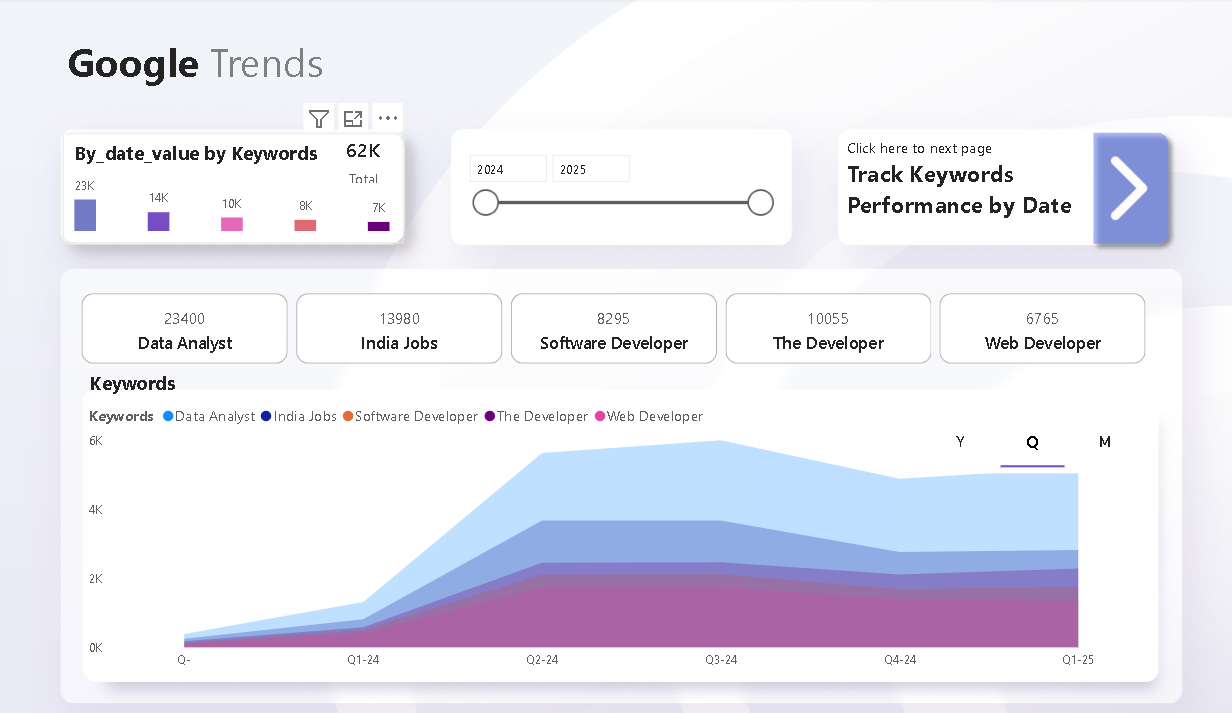

The dashboard page shown, as its layout file describes it:
{"tool":"powerbi","page":{"name":"Keywords by Date","canvas":[1280,720],"ordinal":1},"visuals":[{"type":"textbox","box":[148.4,32.6,320.9,89.3],"z":0},{"type":"areaChart","title":"Keywords","fields":{"Category":["By_Date_API.Q-yr"],"Y":["By_Date_API.By_date_value"],"Series":["By_Date_API.Keywords"]},"box":[168.9,359.5,1033.9,298],"z":1000},{"type":"advancedSlicerVisual","fields":{"Values":["Dynamic_Date.Dynamic_Date"]},"box":[978.4,398.1,212.3,61.5],"z":2000},{"type":"advancedSlicerVisual","fields":{"Values":["By_Date_API.Keywords"]},"box":[161.7,281.1,1041.2,78.4],"z":3000},{"type":"textbox","box":[900,131.5,234,106.2],"z":4000},{"type":"actionButton","box":[1134.1,121.9,90.5,125.5],"z":5000},{"type":"clusteredColumnChart","fields":{"Category":["By_Date_API.Keywords"],"Y":["By_Date_API.By_date_value"]},"box":[148.4,131.5,329.4,106.2],"z":6000},{"type":"card","fields":{"Values":["By_Date_API.By_date_value"]},"box":[384.9,131.5,107.4,53.1],"z":7000},{"type":"slicer","fields":{"Values":["By_Date_API.Year"]},"box":[528.4,142.4,314.9,83.2],"z":8000}]}

Visuals, with their boxes in screenshot pixels (x1, y1, x2, y2), scaled from the page's 1280x720 canvas onto the 1232x713 screenshot:
textbox: detection(143, 32, 452, 121)
"Keywords" areaChart: detection(163, 356, 1158, 651)
advancedSlicerVisual - Dynamic_Date.Dynamic_Date: detection(942, 394, 1146, 455)
advancedSlicerVisual - By_Date_API.Keywords: detection(156, 278, 1158, 356)
textbox: detection(866, 130, 1091, 235)
actionButton: detection(1092, 121, 1179, 245)
clusteredColumnChart - By_Date_API.Keywords x By_Date_API.By_date_value: detection(143, 130, 460, 235)
card - By_Date_API.By_date_value: detection(370, 130, 474, 183)
slicer - By_Date_API.Year: detection(509, 141, 812, 223)
